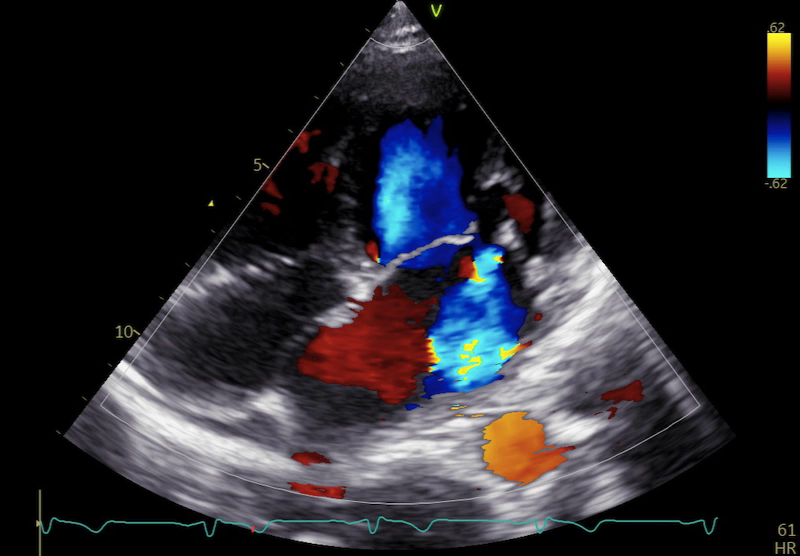MR: (382, 221, 528, 315)
